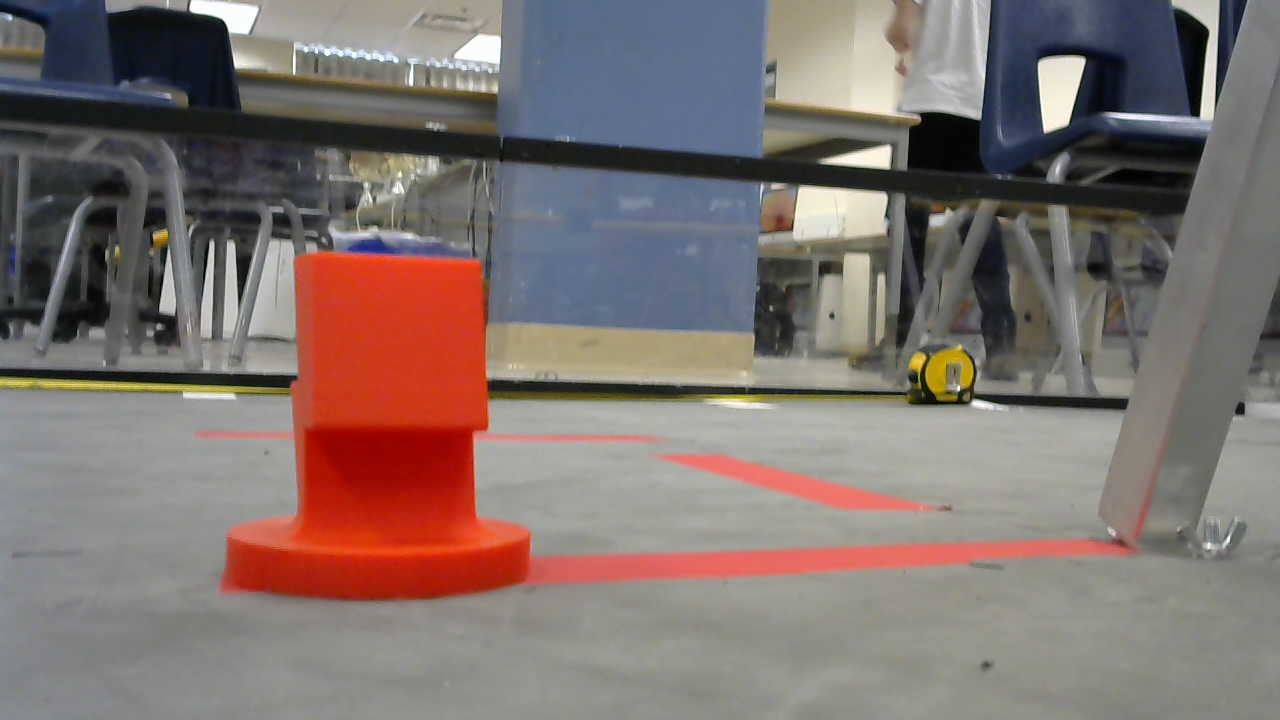redobject: (223, 238, 545, 605)
